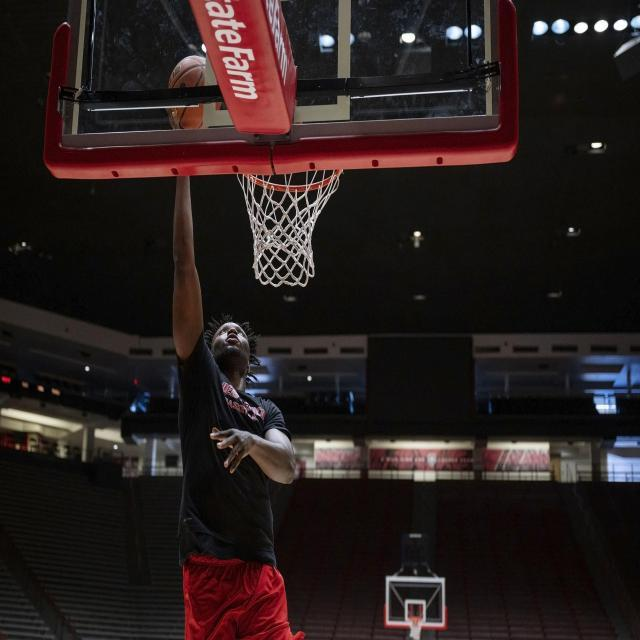Basketball: (169, 56, 222, 130)
hoop: (237, 170, 343, 288), (407, 616, 424, 640)
